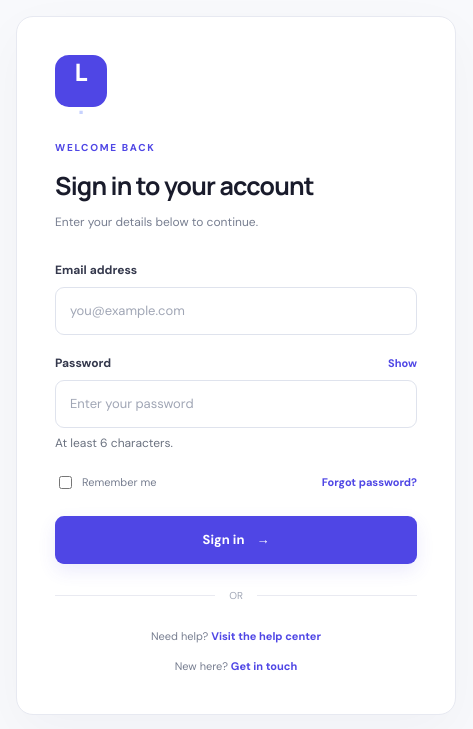
it: Login page › reports missing email and password
The width and height of the screenshot is (473, 729).
What coordinates should you click on to do the following:
click the button "Sign in →"
I would click on:
 (236, 540)
Its box is [55,516,417,564].
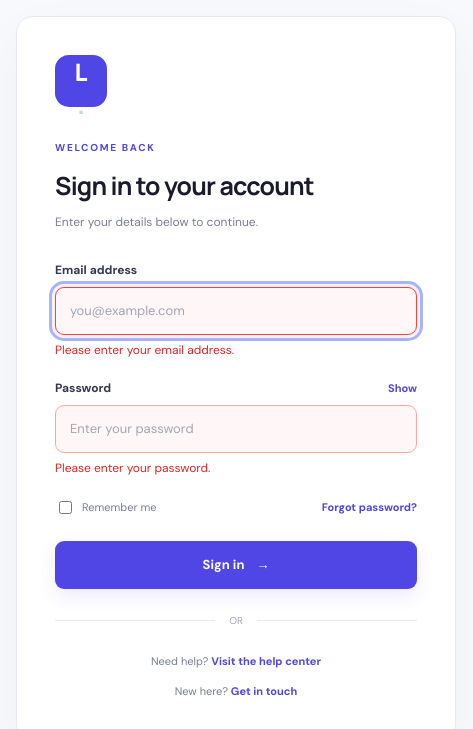
Check: the text "Please enter your email address." is shown, box [55,342,234,358]
Check: the text "Please enter your password." is shown, box [55,460,210,476]
